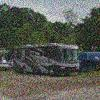buses: (6, 42, 82, 78)
